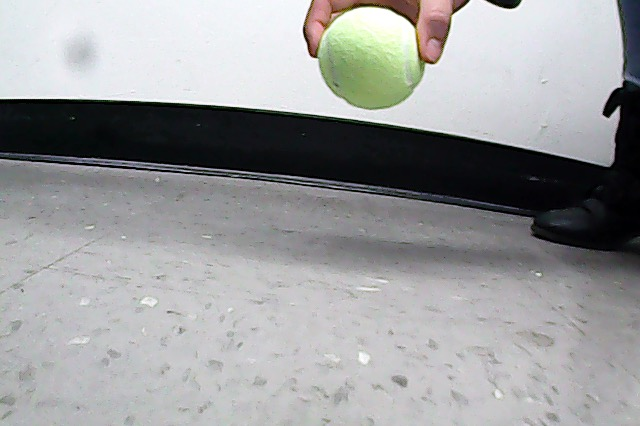ball: (314, 5, 429, 113)
